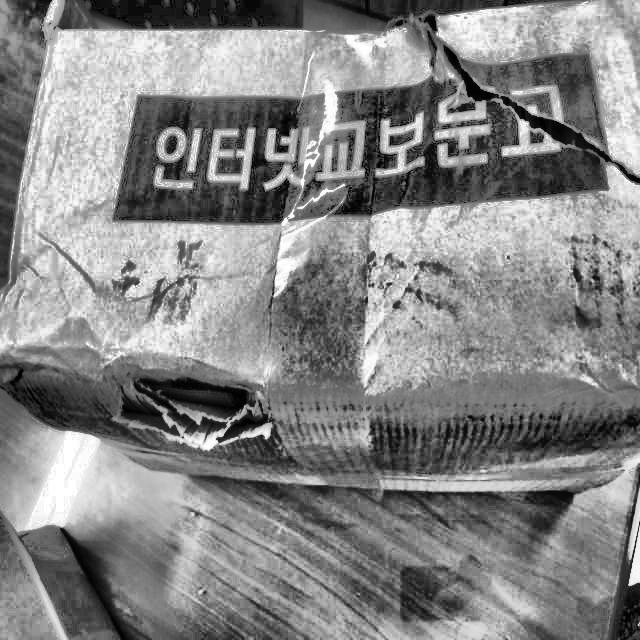box: (0, 0, 640, 507)
hole: (118, 362, 276, 467)
